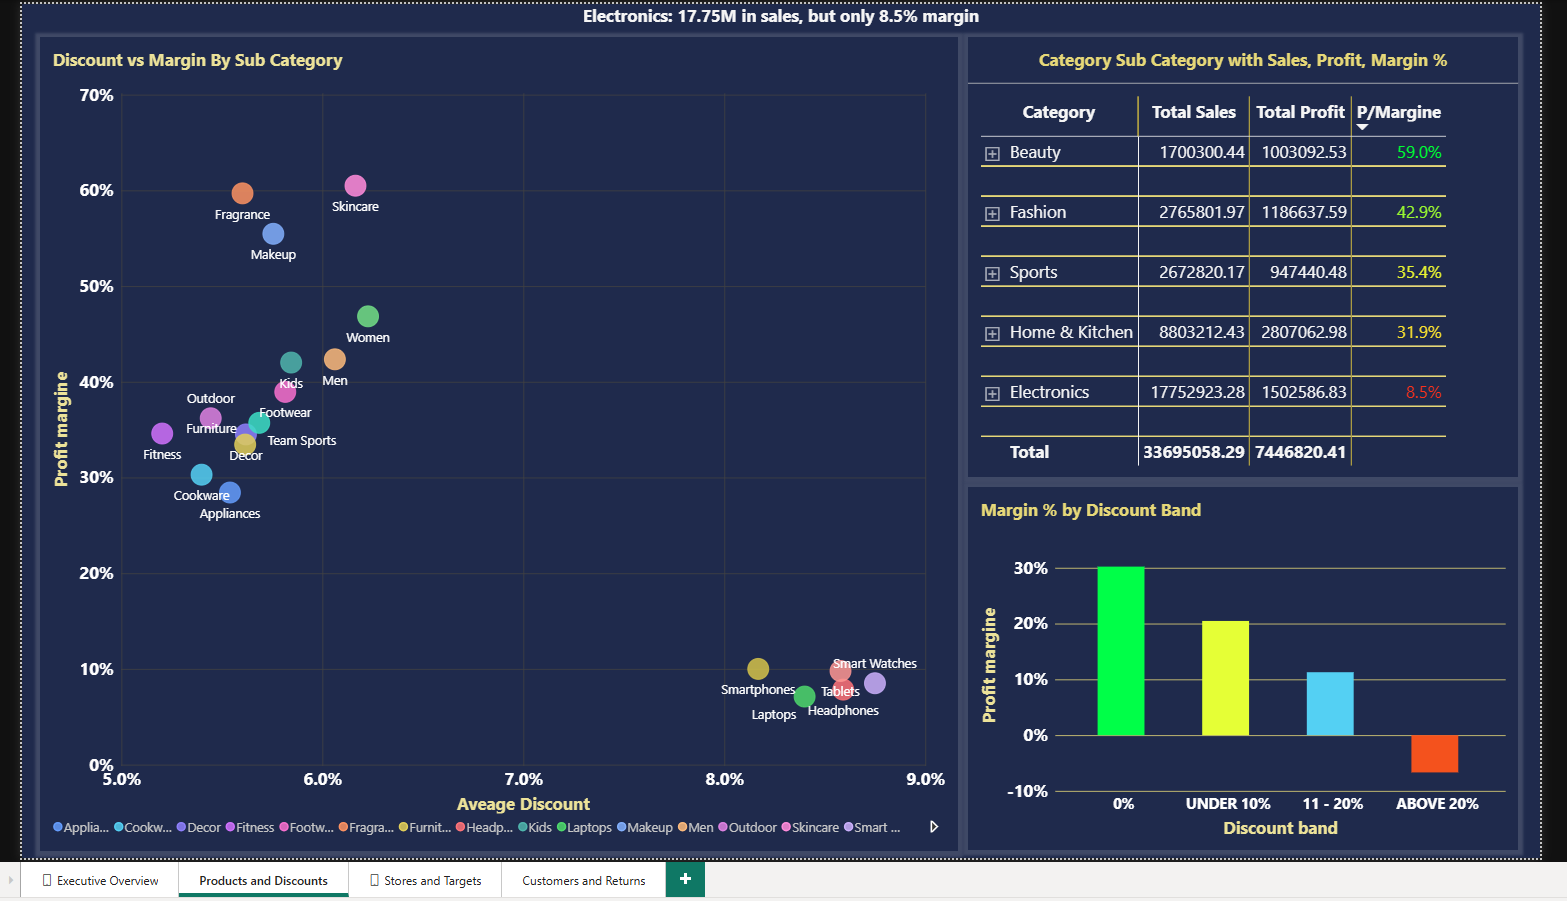

The page's visual inventory and layout, read from the dashboard file:
{"tool":"powerbi","page":{"name":" Products and Discounts","canvas":[1920,1080],"ordinal":1},"visuals":[{"type":"pivotTable","title":"Category  Sub Category with Sales, Profit, Margin %","fields":{"Rows":["Products.Category","Products.SubCategory"],"Values":["Sales.Total Sales","Sales.Total Profit","Sales.scope"]},"box":[1196.9,41.6,695.8,557.5],"z":0},{"type":"textbox","box":[0,0,1919.6,33.6],"z":1000},{"type":"columnChart","title":"Margin % by Discount Band","fields":{"Category":["Sales.Discount band"],"Y":["Sales.Profit margine"]},"box":[1196.9,611.2,695.8,459.4],"z":2000},{"type":"scatterChart","title":"Discount vs Margin By Sub Category","fields":{"Category":["Products.SubCategory"],"Series":["Products.SubCategory"],"X":["Sales.AVG_DISCOUNT"],"Y":["Sales.Profit margine"]},"box":[22.8,41.6,1160.6,1030.3],"z":3000}]}

Visuals, with their boxes on the page's 1920x1080 design canvas (x1, y1, x2, y2). These are canvas units, not pixel positions in the 1567x901 screenshot, which may show the page scaled, cropped or inside an application window:
"Category  Sub Category with Sales, Profit, Margin %" pivotTable: x1=1197, y1=42, x2=1893, y2=599
textbox: x1=0, y1=0, x2=1920, y2=34
"Margin % by Discount Band" columnChart: x1=1197, y1=611, x2=1893, y2=1071
"Discount vs Margin By Sub Category" scatterChart: x1=23, y1=42, x2=1183, y2=1072
